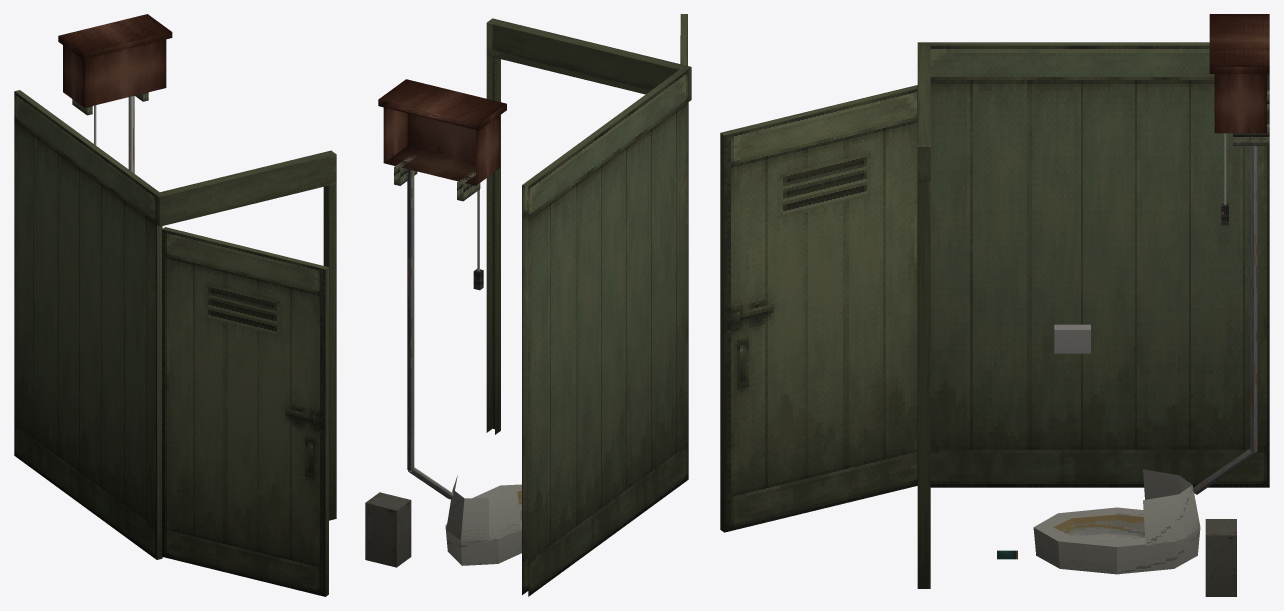
File: prop_toilet_stall-2.glb
3 views of the same model, side by side, from view 1: azimuth 30°, elevation 25°; view 2: azimuth 150°, elevation 25°; view 3: azimuth 270°, elevation 25° (orthographic). The views are drawn at different scales.
Parts seen in each view (by area): view 1: prop_toilet_stall-2; view 2: prop_toilet_stall-2; view 3: prop_toilet_stall-2.
Boxes of the visible parts, x1,y1,x2,y2 form: prop_toilet_stall-2: [14, 14, 336, 596]; prop_toilet_stall-2: [365, 14, 691, 596]; prop_toilet_stall-2: [720, 14, 1269, 596].
Bounding box in the file's own units: 0.95 × 2.18 × 2.11.
Materials: 10 (10 with a texture image).
